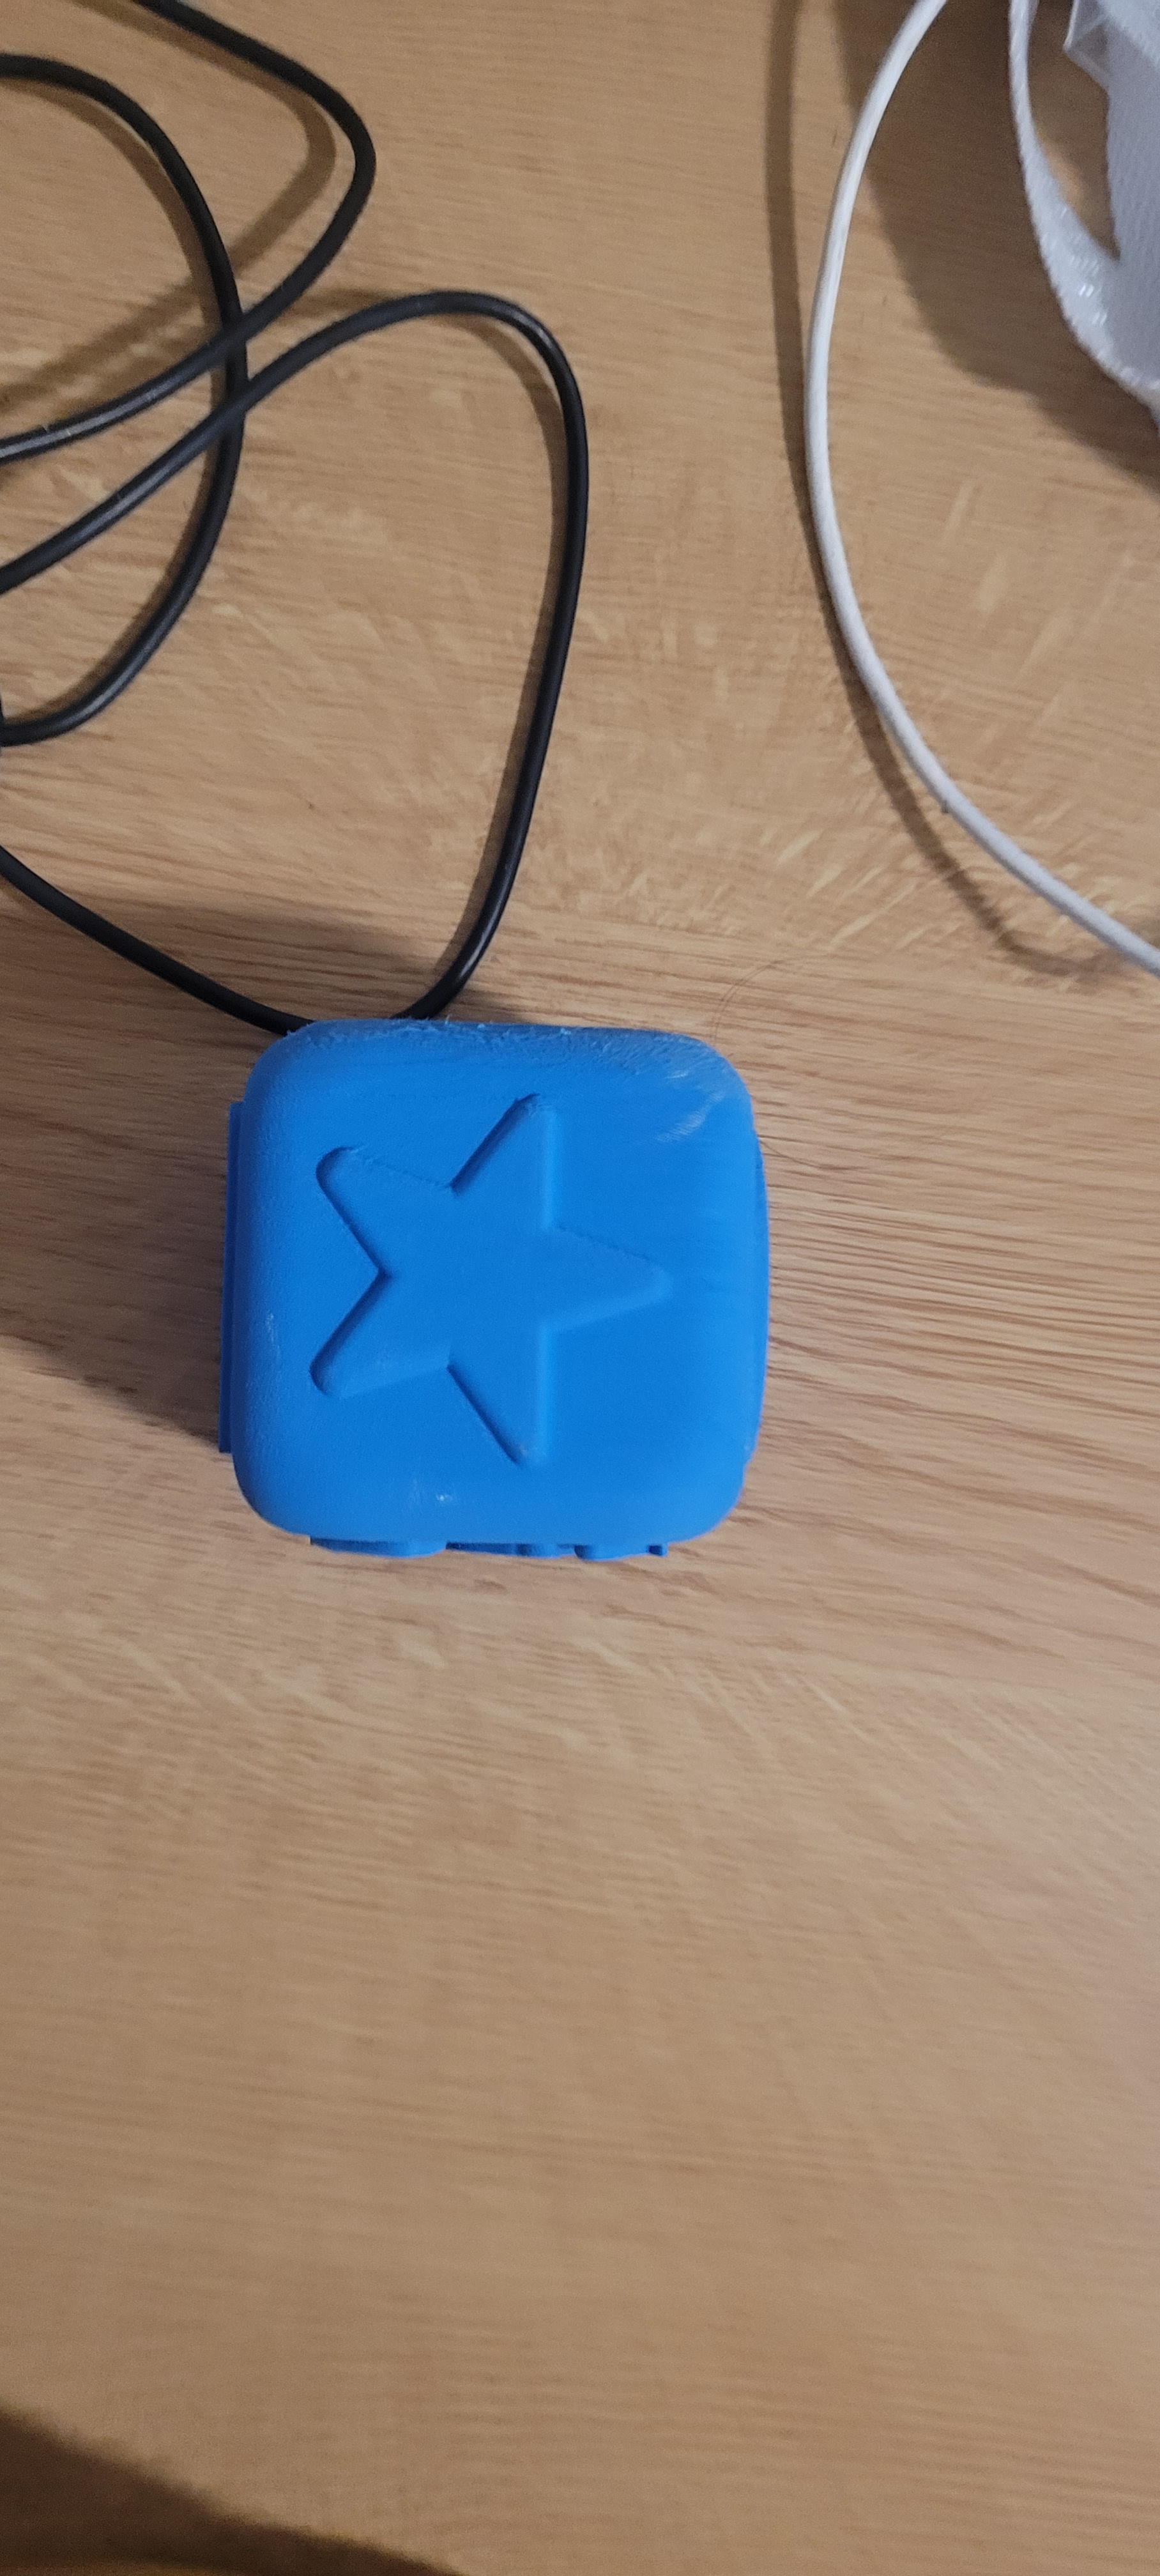Star: (245, 1020, 757, 1569)
